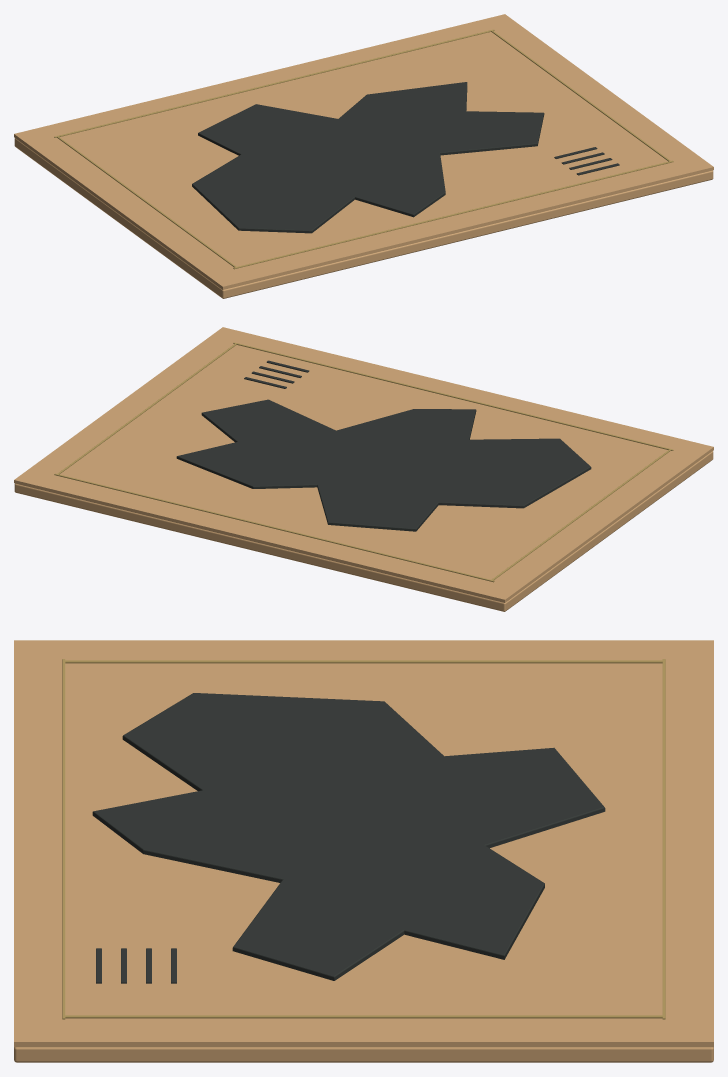
The model's file is fantasy-cartographers-map-printing-guild-engraved-fant-773bea63__32246.glb.
3 views of the same model, one above another, from view 1: azimuth 30°, elevation 25°; view 2: azimuth 150°, elevation 25°; view 3: azimuth 270°, elevation 25° (orthographic). The views are drawn at different scales.
Parts seen in each view (by area): view 1: engraved-fantasy-coast-plate; view 2: engraved-fantasy-coast-plate; view 3: engraved-fantasy-coast-plate.
Boxes of the visible parts, left/top/right/bottom form: engraved-fantasy-coast-plate: left=14, top=14, right=713, bottom=298; engraved-fantasy-coast-plate: left=14, top=327, right=713, bottom=611; engraved-fantasy-coast-plate: left=14, top=640, right=713, bottom=1062.
Bounding box in the file's own units: 0.95 × 0.029 × 0.6999.
